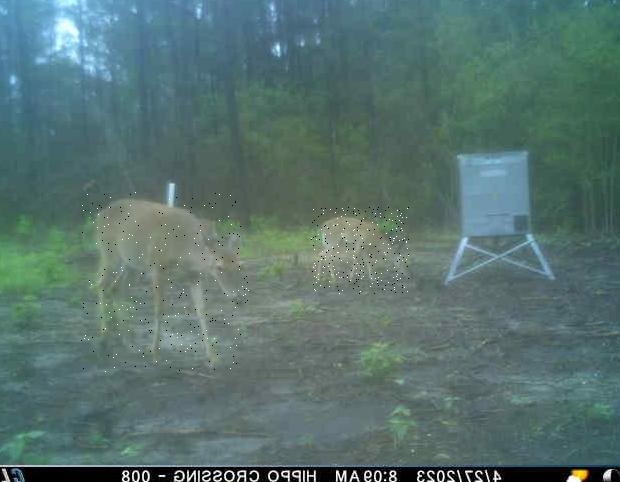Deer: (81, 192, 249, 372), (311, 207, 409, 294)
